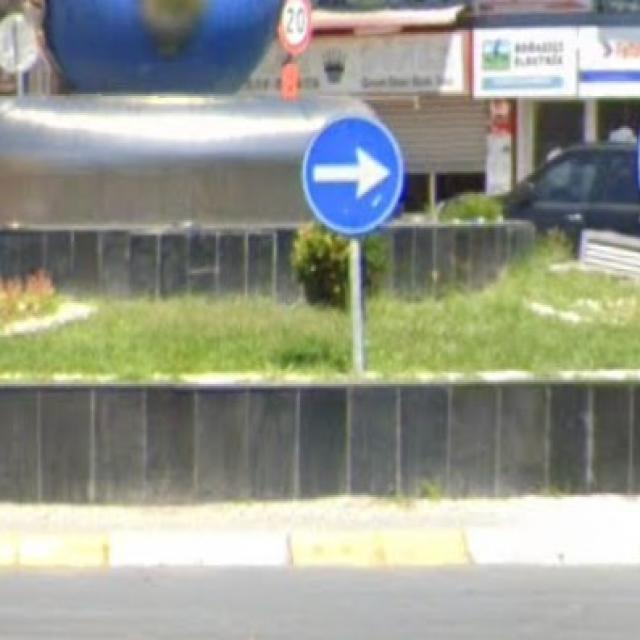Turn Right: (300, 116, 402, 234)
